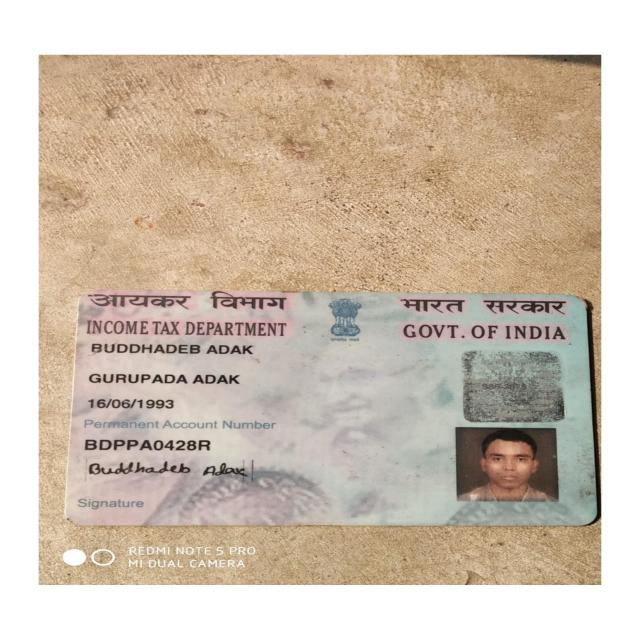pan_card: (68, 289, 590, 520)
